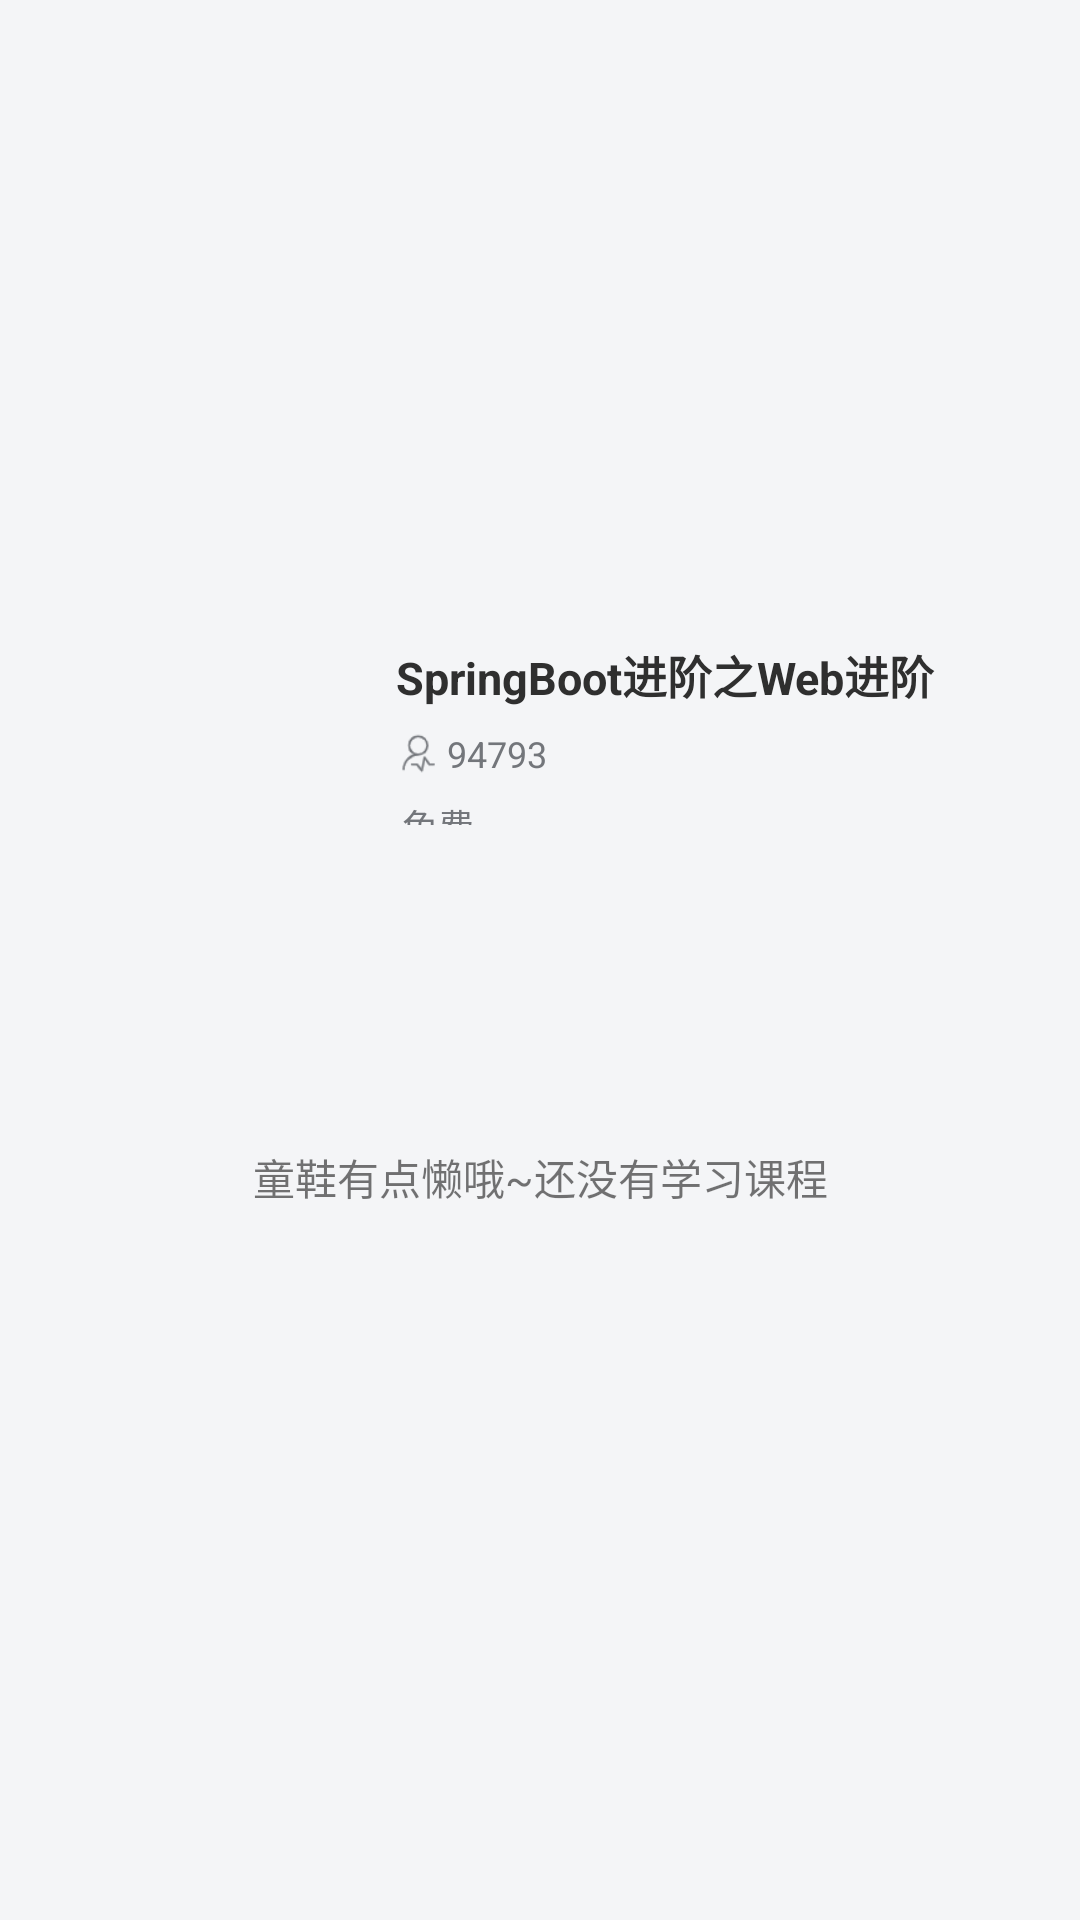

Icon click points for this 1080 x 1920 phone screenshot, format [x,y]:
person num: [418,753]
